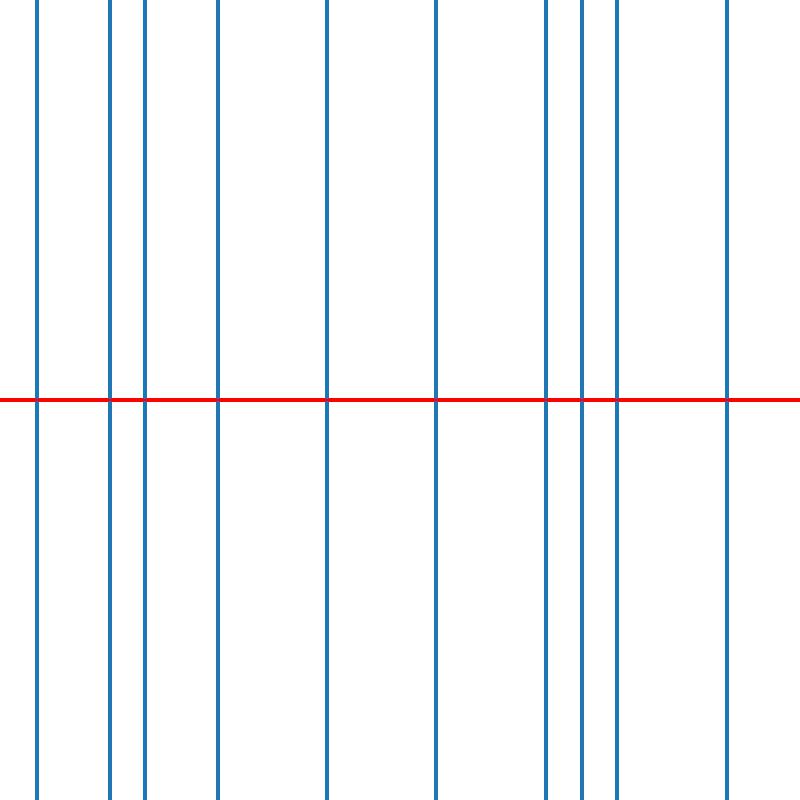root: (541, 396, 549, 404), (32, 396, 40, 404), (432, 396, 440, 404), (141, 396, 149, 404), (323, 396, 330, 404), (723, 396, 730, 404), (578, 396, 585, 404), (105, 396, 112, 404), (214, 396, 221, 404), (614, 396, 621, 404)
